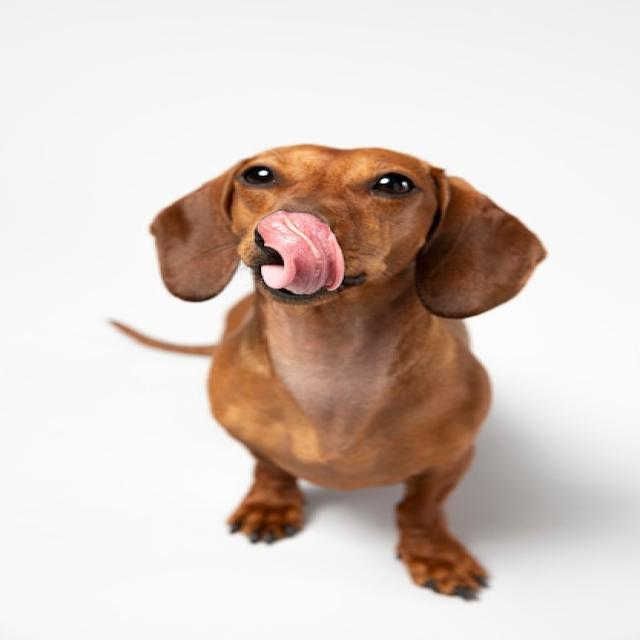Dog: (109, 142, 549, 602)
